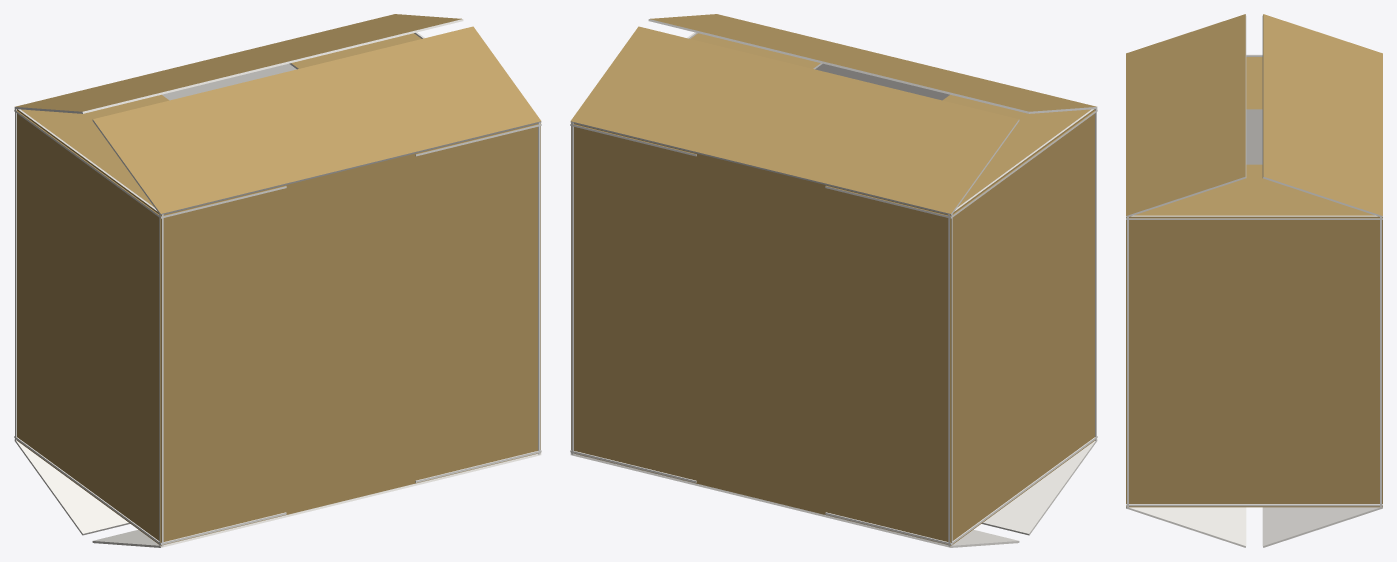
The picture shows the model from 3 angles, left to right: view 1: azimuth 30°, elevation 25°; view 2: azimuth 150°, elevation 25°; view 3: azimuth 270°, elevation 25°; orthographic projection. The views are drawn at different scales.
Parts seen in each view (by area): view 1: Packive_Box_fefco0201; view 2: Packive_Box_fefco0201; view 3: Packive_Box_fefco0201.
Boxes of the visible parts, <box> form: Packive_Box_fefco0201: <box>14,14,541,547</box>; Packive_Box_fefco0201: <box>570,14,1097,547</box>; Packive_Box_fefco0201: <box>1126,14,1382,547</box>.
Size of the model in its own units: 0.3 by 0.3192 by 0.2.
Materials: 24 (12 with a texture image).
